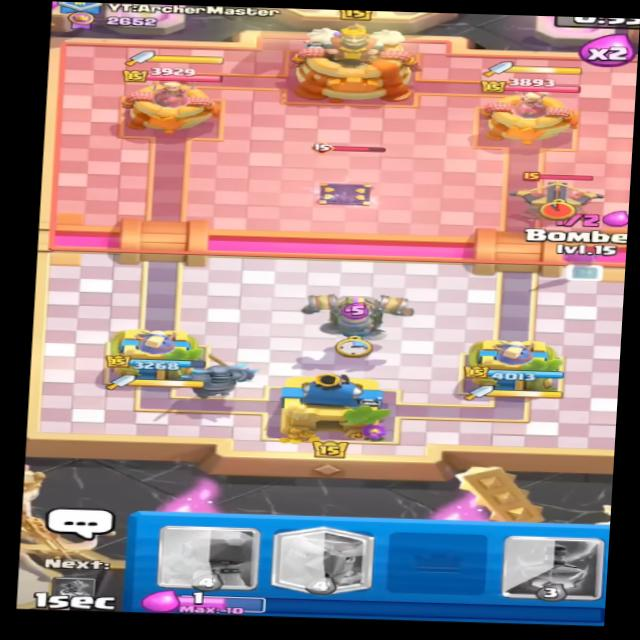evo-tesla-closed: (294, 139, 394, 209)
x-bow: (500, 166, 611, 228)
